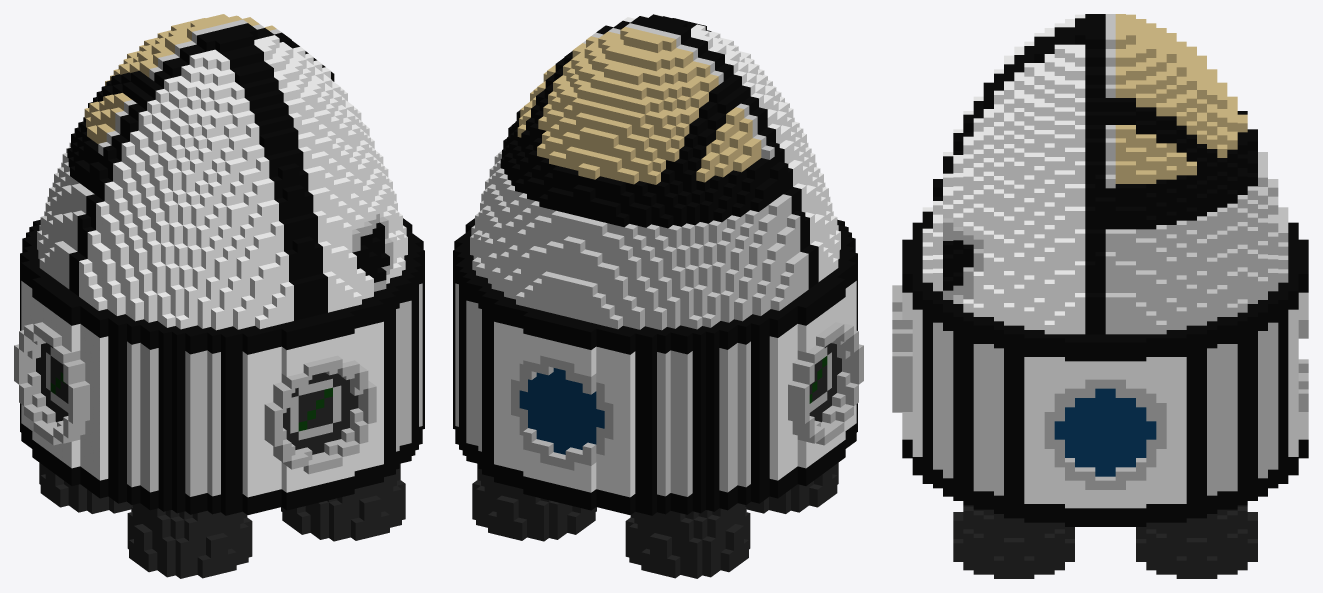
File: Kaelous ship V1.gltf
3 renders of one model, left to right at view 1: azimuth 30°, elevation 25°; view 2: azimuth 150°, elevation 25°; view 3: azimuth 270°, elevation 25°, orthographic. The views are drawn at different scales.
Parts seen in each view (by area): view 1: Layer.1, Layer.2, Layer.3; view 2: Layer.1, Layer.2, Layer.3; view 3: Layer.1, Layer.2, Layer.3.
Boxes of the visible parts, left/top/right/bottom form: Layer.1: left=14, top=218, right=424, bottom=578; Layer.2: left=37, top=19, right=407, bottom=330; Layer.3: left=84, top=14, right=276, bottom=143; Layer.1: left=453, top=218, right=863, bottom=578; Layer.2: left=470, top=14, right=840, bottom=330; Layer.3: left=517, top=26, right=761, bottom=454; Layer.1: left=892, top=222, right=1308, bottom=578; Layer.2: left=922, top=14, right=1288, bottom=334; Layer.3: left=1054, top=14, right=1247, bottom=476.
Size of the model in its own units: 41 by 53 by 41.
1 material, 1 textured.
